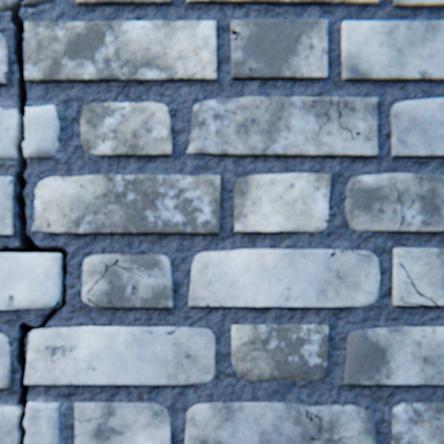brick: (25, 22, 215, 83), (186, 98, 376, 157), (32, 175, 219, 234), (188, 250, 378, 307), (25, 327, 214, 384), (185, 402, 375, 443), (341, 22, 443, 82), (344, 174, 443, 232), (343, 327, 443, 384), (231, 20, 326, 80), (233, 174, 329, 232), (231, 325, 327, 381), (82, 254, 172, 308), (80, 103, 171, 156), (75, 402, 170, 443), (0, 254, 61, 310), (389, 99, 443, 157), (392, 249, 443, 306), (390, 402, 443, 443), (186, 0, 377, 6), (0, 177, 13, 235), (0, 333, 11, 388), (76, 0, 170, 6), (391, 0, 443, 8), (0, 34, 8, 86)
broken_brick: (23, 106, 59, 158), (24, 402, 59, 443), (0, 108, 17, 160), (0, 406, 19, 443), (22, 0, 57, 8), (0, 0, 18, 12)
crack: (0, 0, 67, 443), (87, 259, 143, 294), (398, 262, 436, 305), (336, 98, 360, 141), (393, 181, 406, 231), (304, 410, 321, 439), (317, 117, 328, 133), (337, 435, 354, 443), (75, 416, 102, 421), (231, 28, 240, 41), (401, 301, 429, 305), (87, 297, 99, 306), (166, 327, 177, 335), (326, 99, 331, 115), (327, 250, 334, 258), (324, 436, 335, 440), (241, 75, 255, 78), (8, 179, 13, 186)
